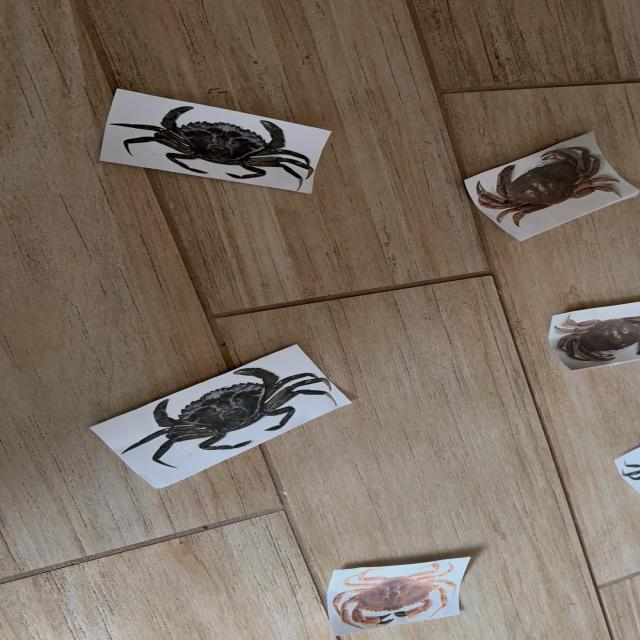egc: (123, 368, 333, 468), (115, 106, 313, 185)
